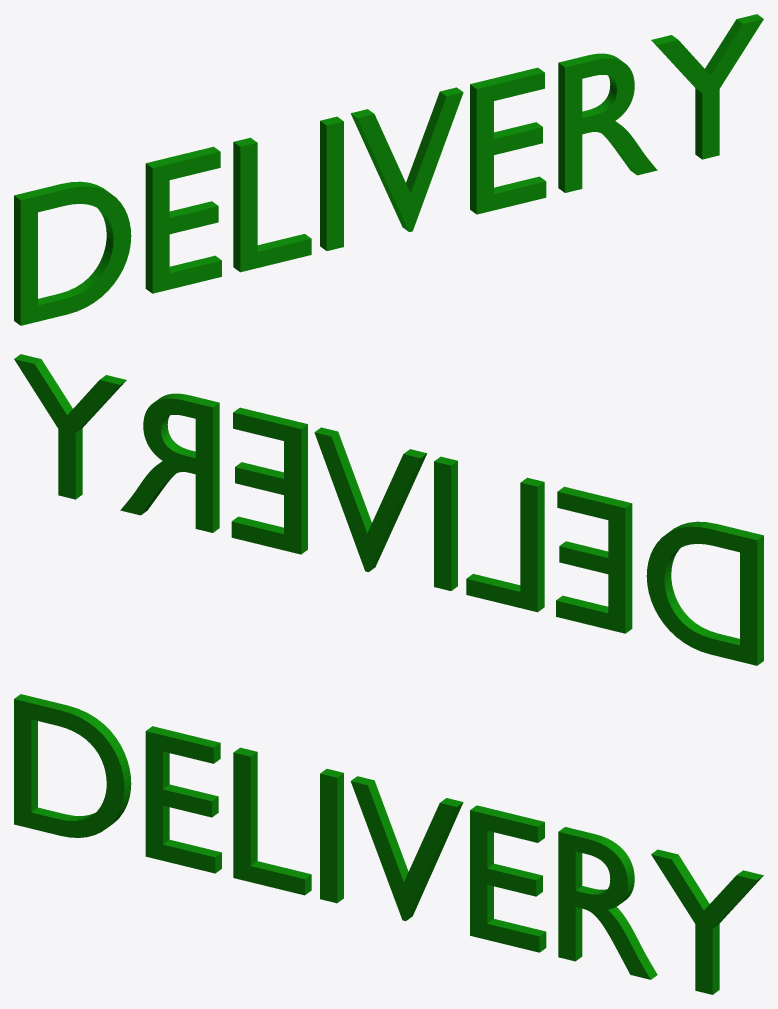
File: delivery_text.fbx
3 views of the same model, one above another, from view 1: azimuth 30°, elevation 25°; view 2: azimuth 150°, elevation 25°; view 3: azimuth 330°, elevation 25° (orthographic).
Visible parts, largest first — view 1: delivery_text; view 2: delivery_text; view 3: delivery_text.
Boxes of the visible parts, box(x1,y1,x2,y2) form: delivery_text: box(14, 14, 763, 325); delivery_text: box(14, 354, 763, 665); delivery_text: box(14, 694, 763, 994).
Bounding box in the file's own units: 115 × 18.7 × 1.82.
